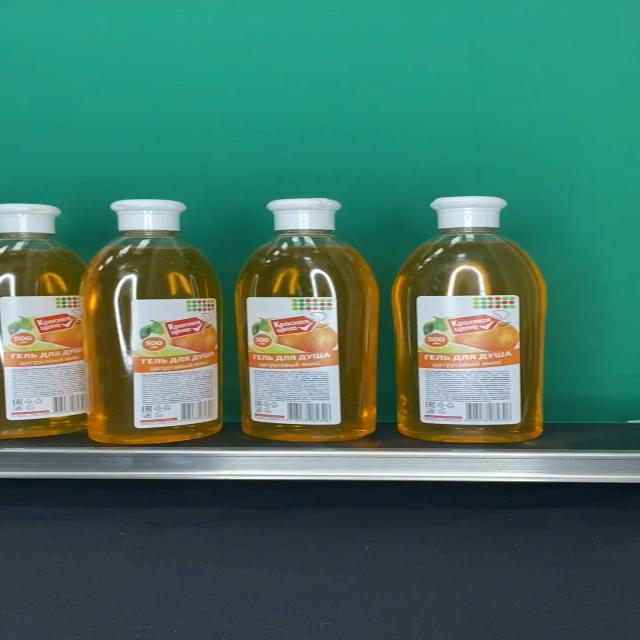Bottle: (392, 196, 548, 443), (234, 198, 380, 440), (80, 199, 220, 444)
Cap: (429, 196, 508, 229), (264, 198, 342, 231), (110, 200, 186, 231)
